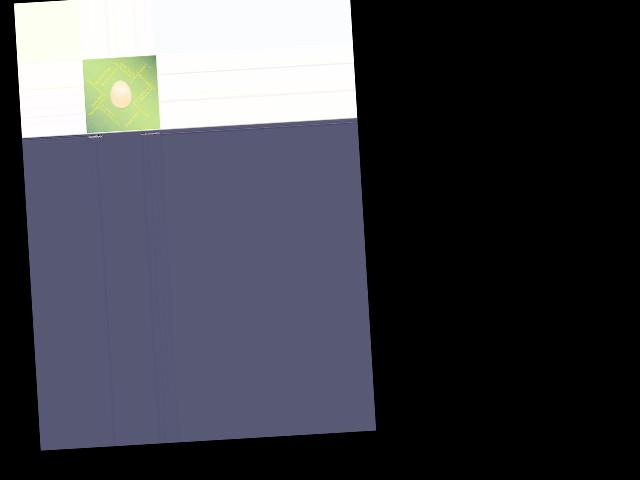egg: (110, 80, 132, 108)
